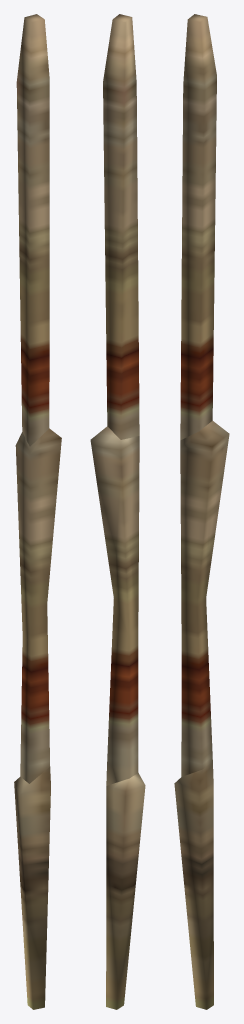
File: walking_staff.glb
The picture shows the model from 3 angles, left to right: view 1: azimuth 30°, elevation 25°; view 2: azimuth 150°, elevation 25°; view 3: azimuth 330°, elevation 25°; orthographic projection.
Visible parts, largest first — view 1: WeaponL; view 2: WeaponL; view 3: WeaponL.
Part boxes in pixels (x1=…): WeaponL: x1=14, y1=14, x2=61, y2=1009; WeaponL: x1=90, y1=14, x2=145, y2=1009; WeaponL: x1=174, y1=14, x2=229, y2=1009.
Size of the model in its own units: 0.0772 by 1.82 by 0.0633.
1 material, 1 textured.
